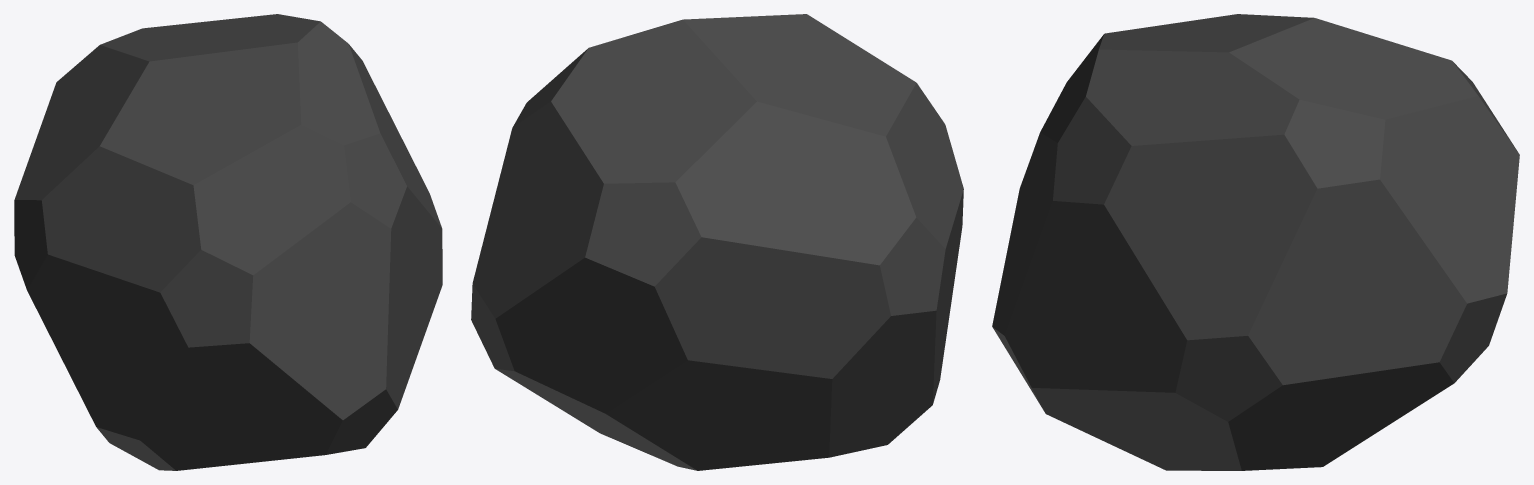
File: rock_1a.fbx
3 renders of one model, left to right at view 1: azimuth 30°, elevation 25°; view 2: azimuth 150°, elevation 25°; view 3: azimuth 270°, elevation 25°, orthographic. The views are drawn at different scales.
Visible parts, largest first — view 1: rock_1a; view 2: rock_1a; view 3: rock_1a.
Part boxes in pixels (bbox=[...]): rock_1a: bbox=[14, 14, 442, 470]; rock_1a: bbox=[471, 14, 963, 470]; rock_1a: bbox=[992, 14, 1519, 470].
Size of the model in its own units: 228 by 220 by 242.
